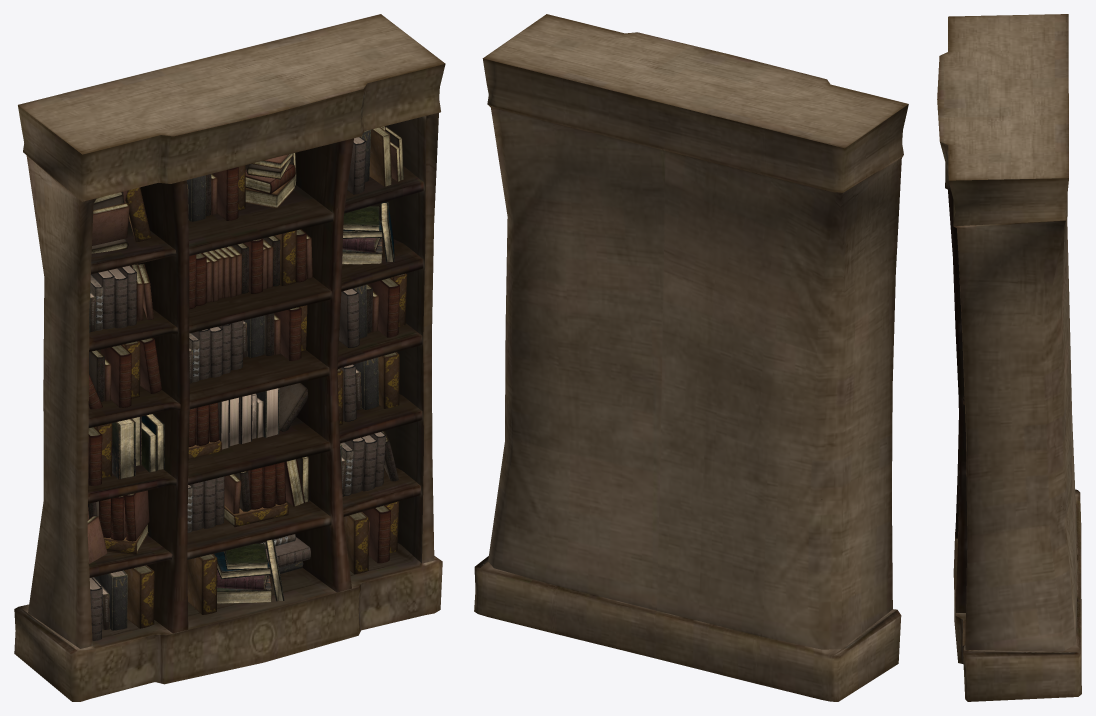
The model's file is bookshelf.gltf.
3 views of the same model, side by side, from view 1: azimuth 30°, elevation 25°; view 2: azimuth 150°, elevation 25°; view 3: azimuth 270°, elevation 25° (orthographic). The views are drawn at different scales.
Parts seen in each view (by area): view 1: SM_MERGED_bookscomp106; view 2: SM_MERGED_bookscomp106; view 3: SM_MERGED_bookscomp106.
Part boxes in pixels (box(x1,y1,x2,y2)): SM_MERGED_bookscomp106: box(14, 14, 445, 701); SM_MERGED_bookscomp106: box(474, 14, 908, 701); SM_MERGED_bookscomp106: box(937, 14, 1081, 701).
Bounding box in the file's own units: 211 × 303 × 75.98.
4 materials, 4 textured.
